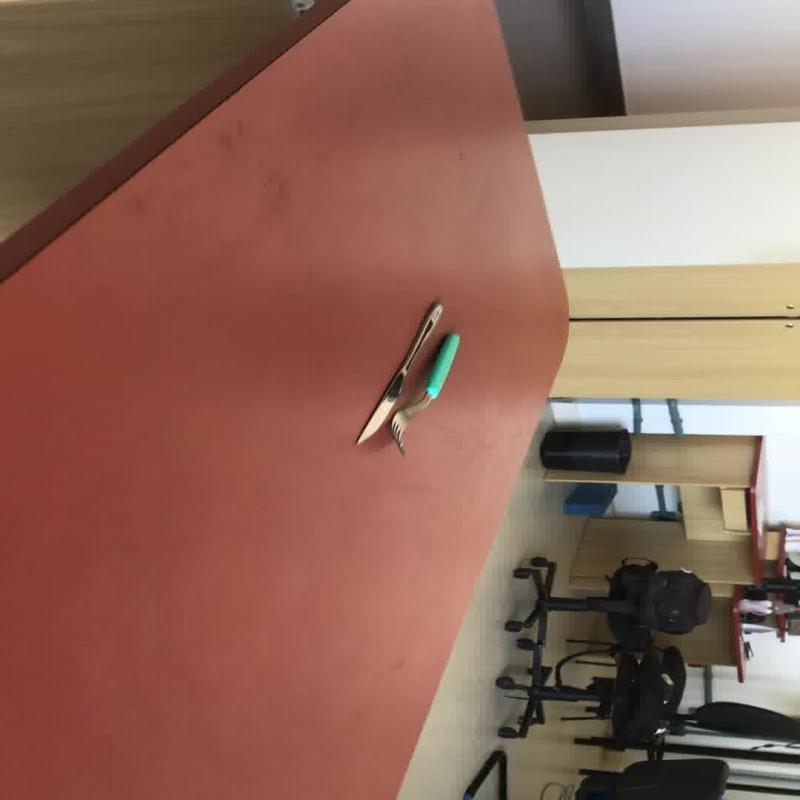fork: (388, 332, 461, 452)
knife: (352, 297, 443, 445)
